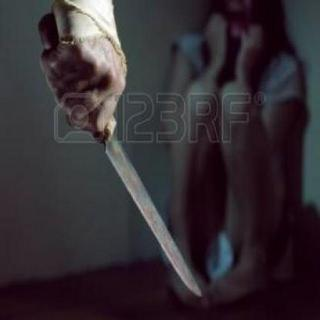knife: (56, 58, 206, 302)
